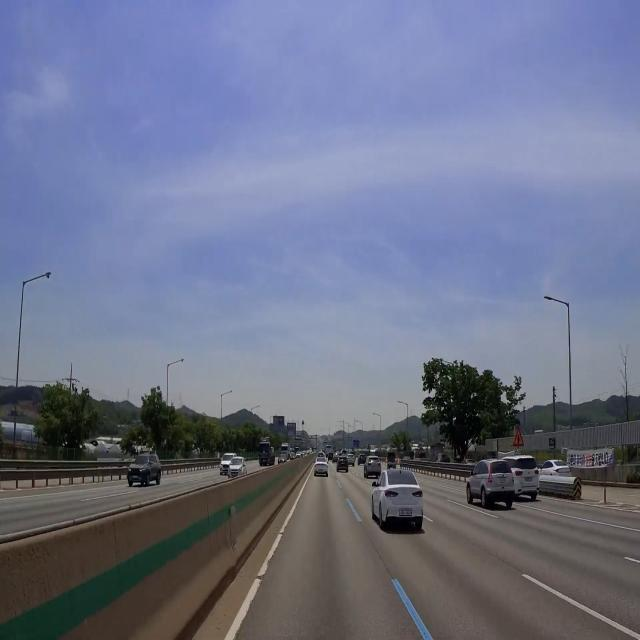car: (397, 507, 414, 522), (521, 471, 536, 488), (497, 477, 512, 488), (129, 472, 141, 483), (229, 469, 240, 481)
